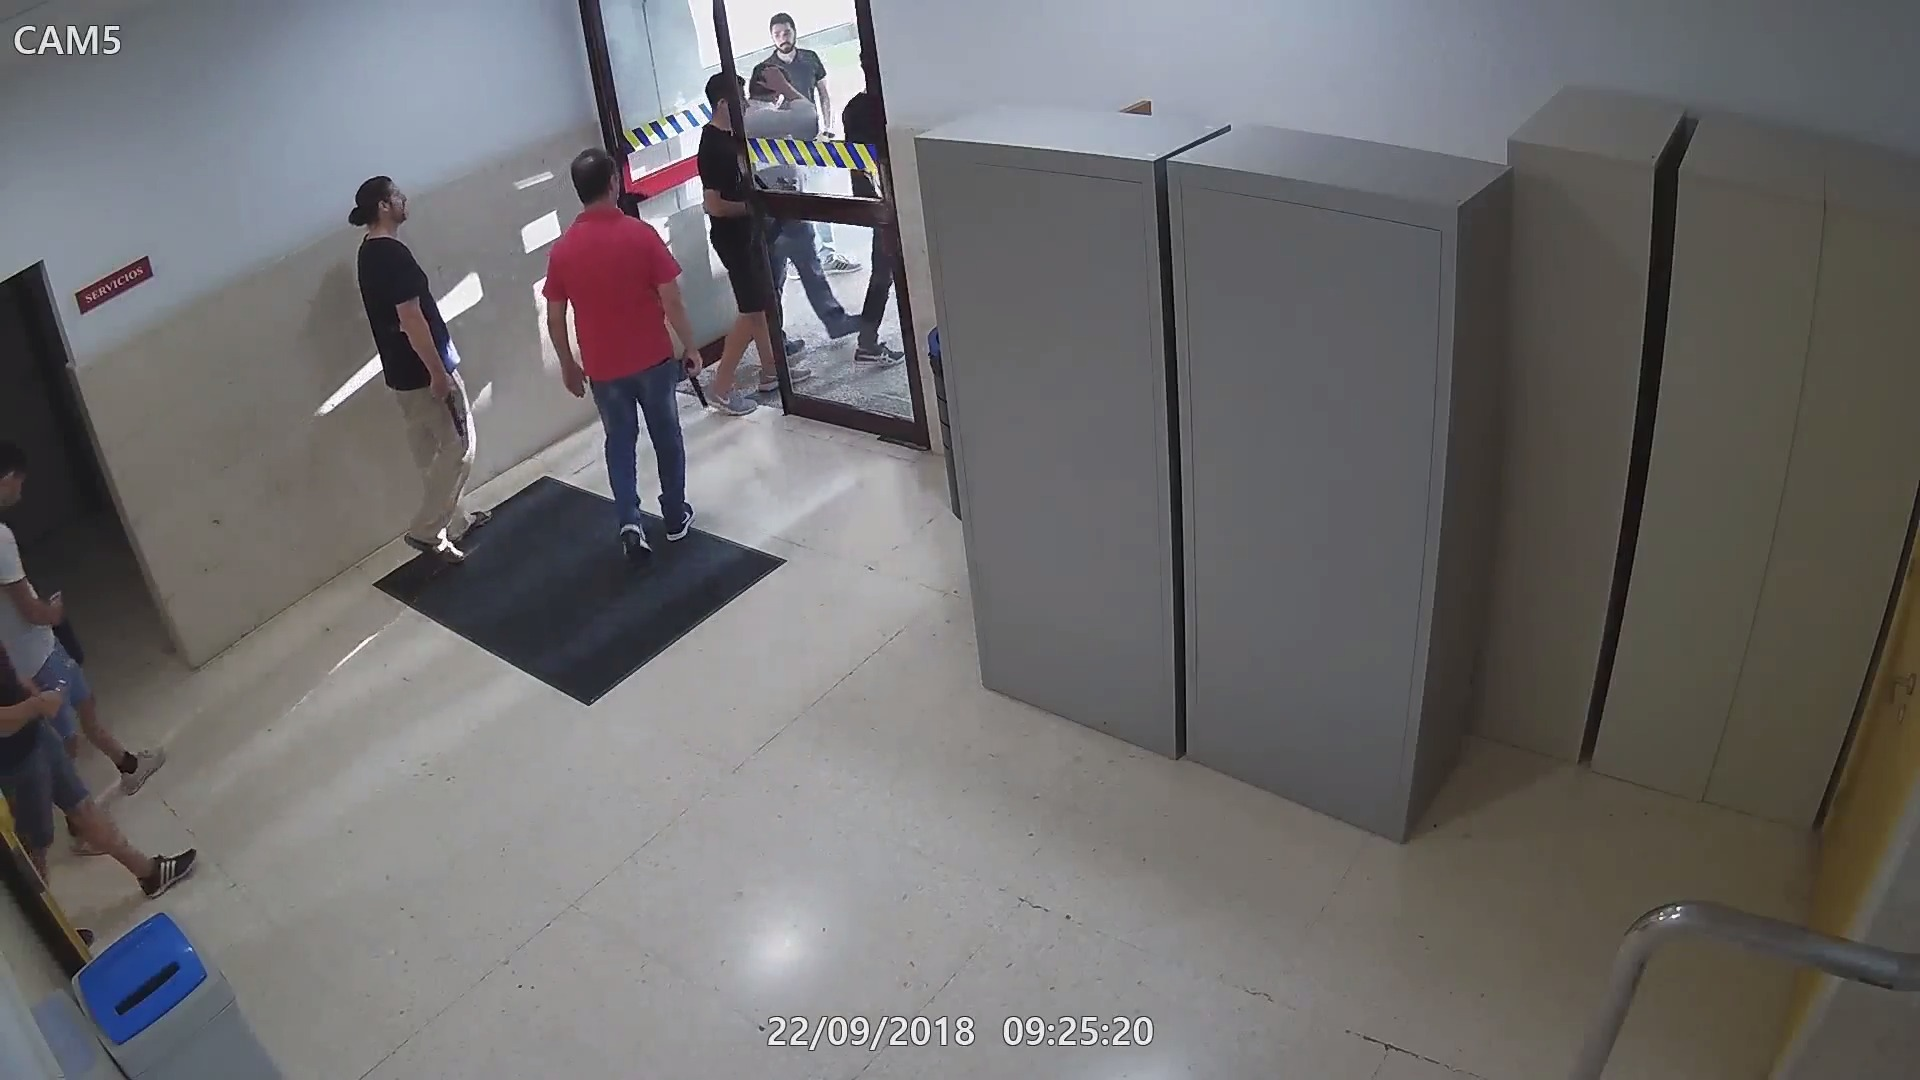Handgun: (674, 338, 712, 417), (34, 675, 69, 729)
Short_rifle: (429, 364, 472, 448)
